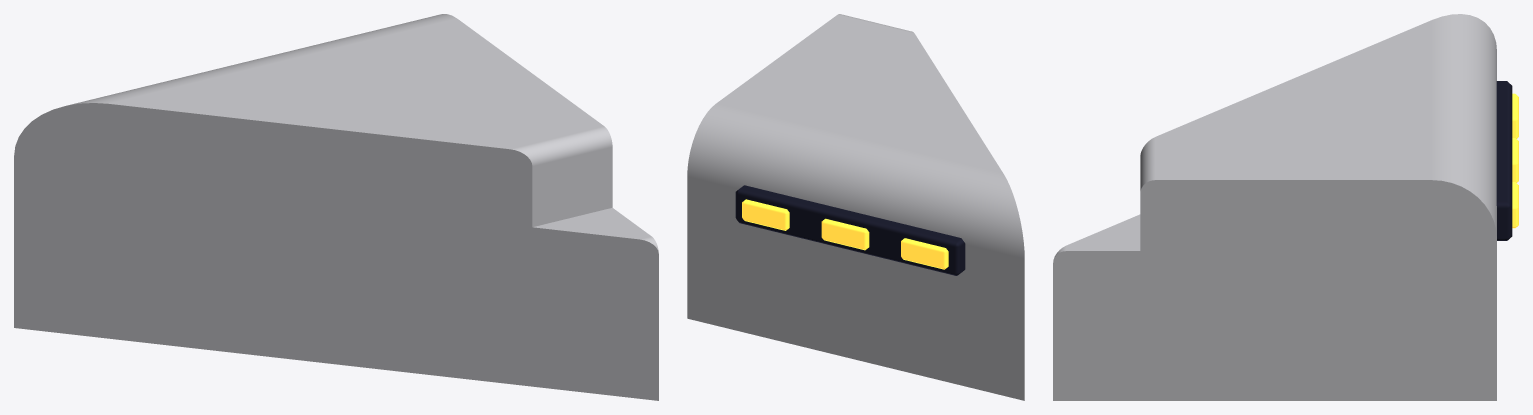
The model's file is roof.shoulder.straight.lit.s3.c45_0.glb.
3 views of the same model, side by side, from view 1: azimuth 30°, elevation 25°; view 2: azimuth 150°, elevation 25°; view 3: azimuth 270°, elevation 25° (orthographic). The views are drawn at different scales.
Parts seen in each view (by area): view 1: roof.shoulder.straight.lit.s3.c45_0; view 2: roof.shoulder.straight.lit.s3.c45_0; view 3: roof.shoulder.straight.lit.s3.c45_0.
Part boxes in pixels (box(x1,y1,x2,y2)): roof.shoulder.straight.lit.s3.c45_0: box(14, 14, 658, 400); roof.shoulder.straight.lit.s3.c45_0: box(687, 14, 1024, 400); roof.shoulder.straight.lit.s3.c45_0: box(1053, 14, 1518, 400).
Bounding box in the file's own units: 1.02 × 0.56 × 1.07.
